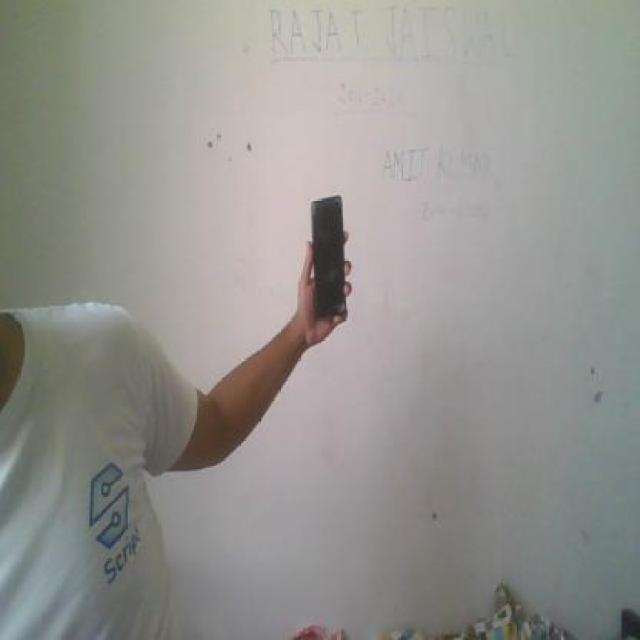Phone: (305, 192, 350, 327)
